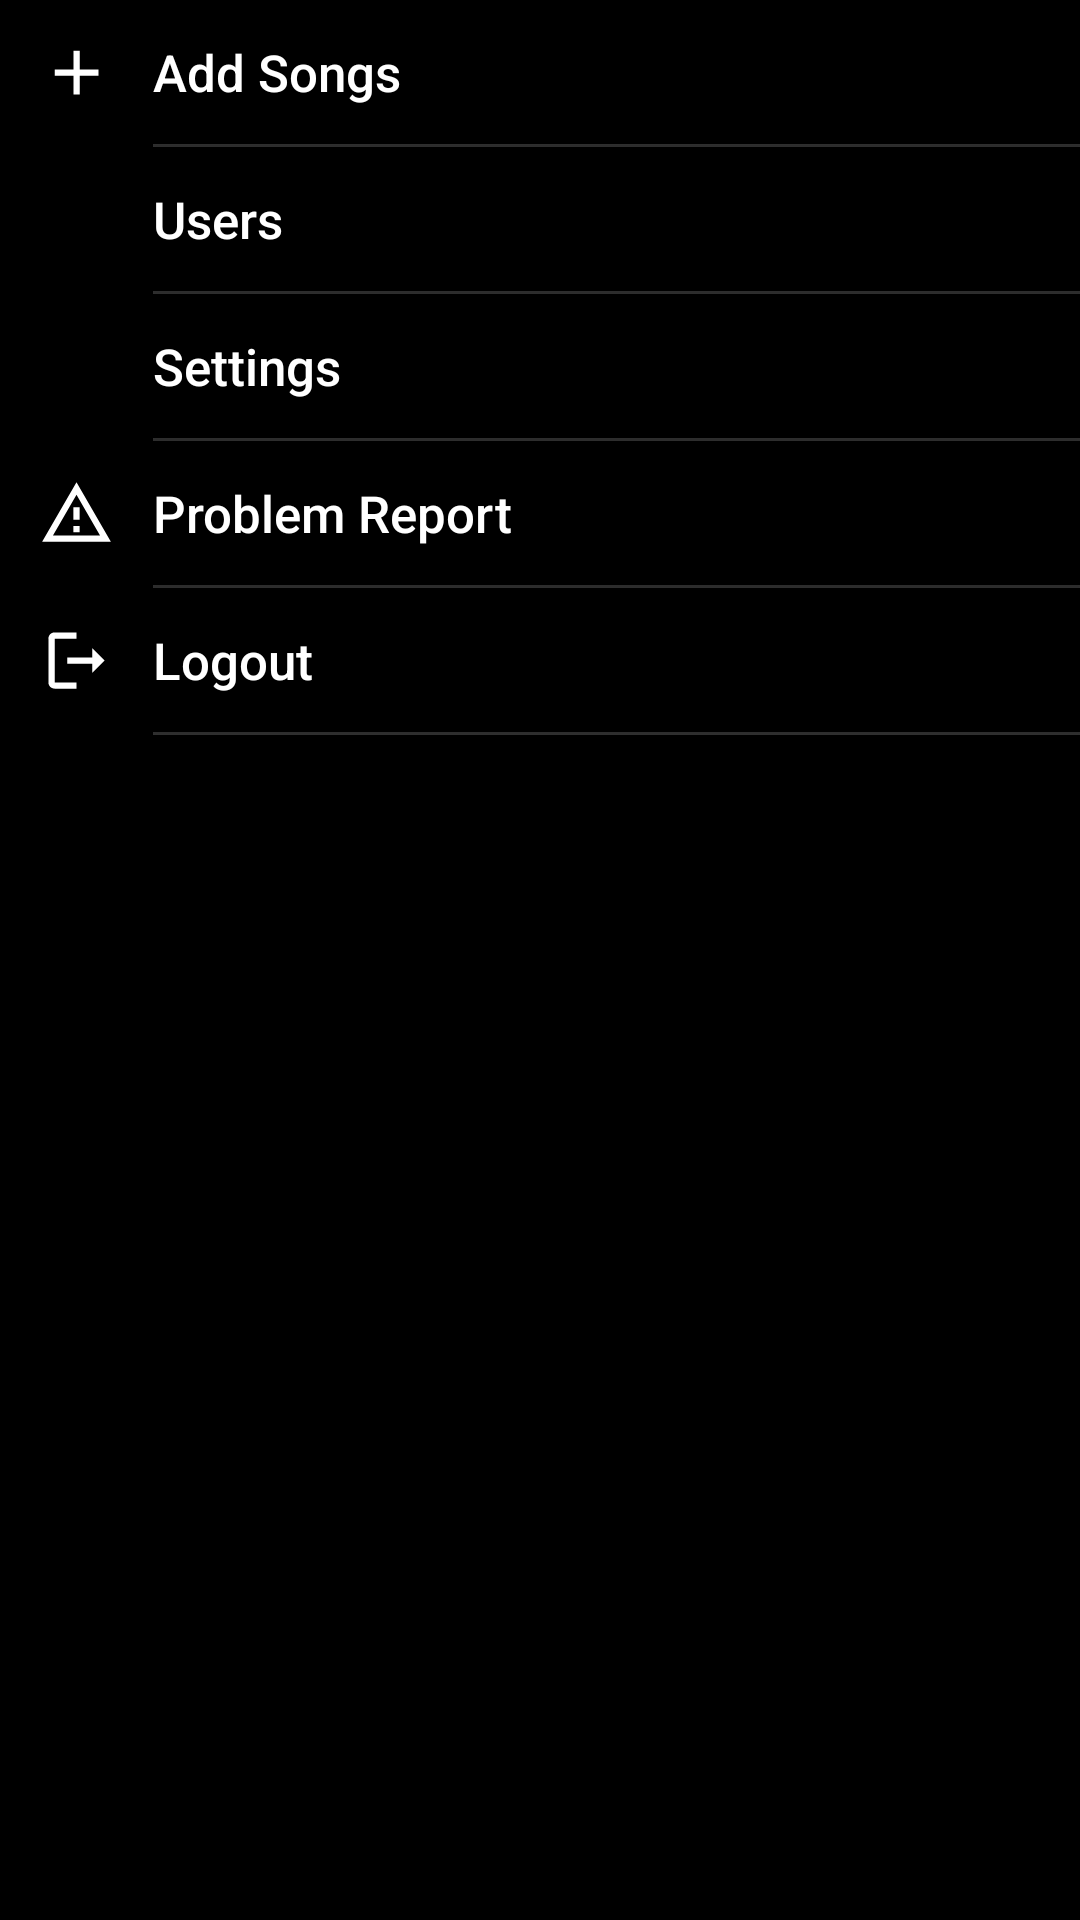

Screen size 1080 × 1920. Icon name, then its box in pixels as BBox(x1, y1, x2, y2):
warning amber: BBox(42, 482, 111, 542)
